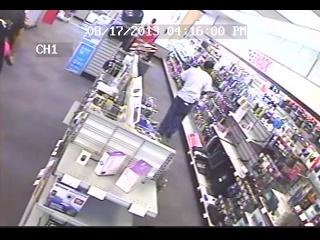Normal: (156, 58, 216, 140), (1, 10, 26, 66)
